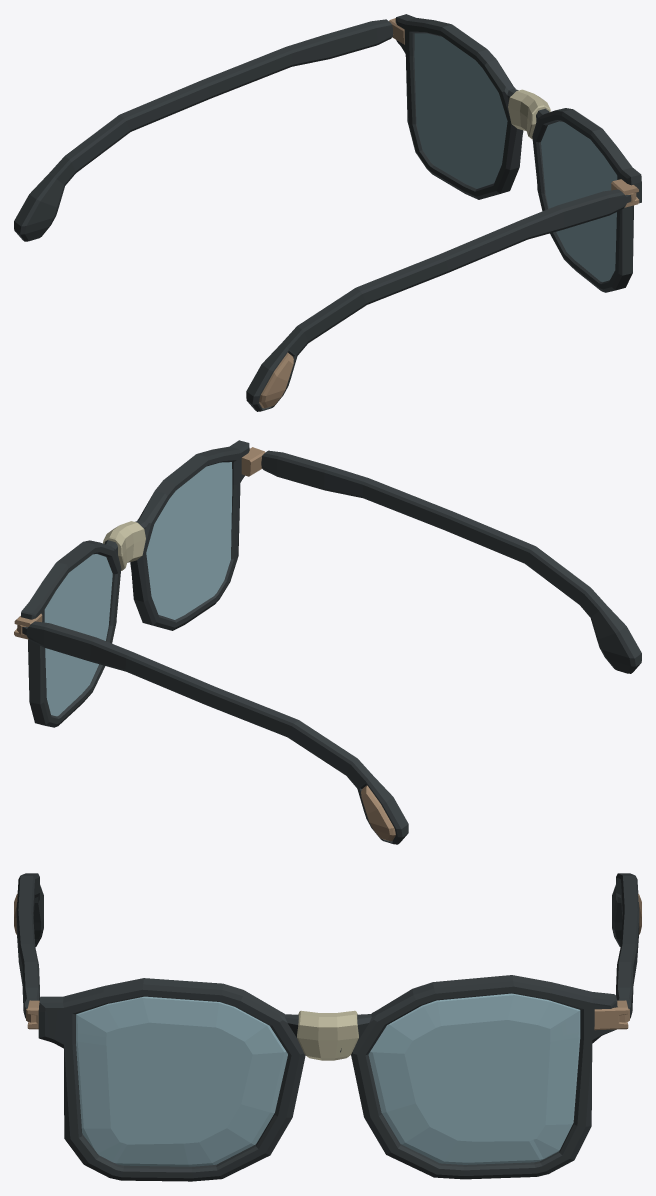
File: Glasses01.fbx
The picture shows the model from 3 angles, top to bottom: view 1: azimuth 30°, elevation 25°; view 2: azimuth 150°, elevation 25°; view 3: azimuth 270°, elevation 25°; orthographic projection. The views are drawn at different scales.
Parts seen in each view (by area): view 1: Cube, Cube.003, Cylinder, Cylinder.003, Cube.004, Cube.001; view 2: Cube, Cylinder.003, Cylinder, Cube.004, Cube.003, Cube.001; view 3: Cube.005, Cube.002, Cube, Cylinder, Cylinder.003, Cube.001, Cylinder.002.
Boxes of the visible parts, x1,y1,x2,y2 form: Cube: (395, 14, 641, 292); Cube.003: (414, 33, 507, 188); Cylinder: (246, 189, 631, 411); Cylinder.003: (14, 19, 392, 241); Cube.004: (541, 121, 617, 282); Cube.001: (508, 89, 550, 139); Cube: (21, 440, 249, 727); Cylinder.003: (22, 621, 408, 844); Cylinder: (261, 450, 641, 673); Cube.004: (146, 462, 232, 619); Cube.003: (44, 554, 112, 716); Cube.001: (103, 521, 145, 570); Cube.005: (76, 996, 287, 1166); Cube.002: (368, 993, 580, 1164); Cube: (38, 975, 617, 1181); Cylinder: (14, 873, 43, 1018); Cylinder.003: (612, 873, 641, 1018); Cube.001: (297, 1010, 358, 1060); Cylinder.002: (594, 1000, 628, 1030).
Size of the model in its own units: 188 by 67.92 by 196.
